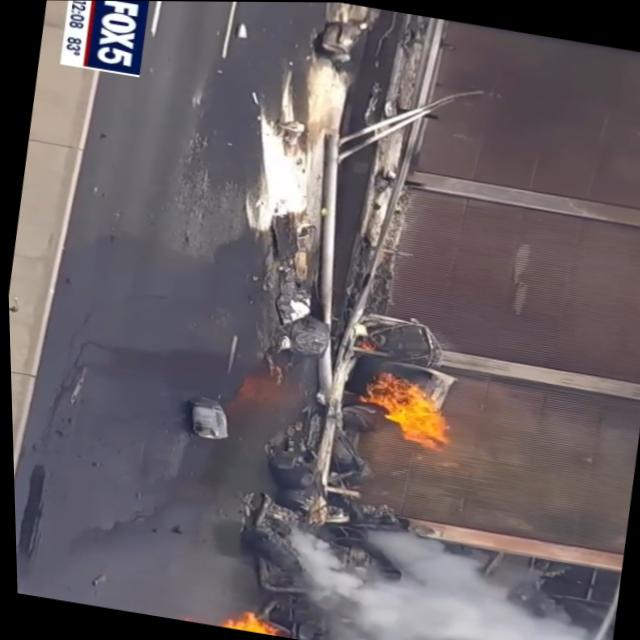Fire: (354, 370, 457, 450)
